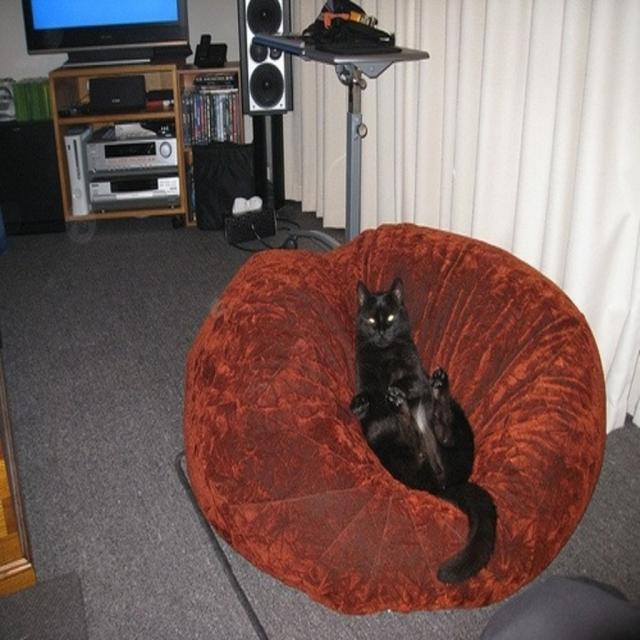Cat: (349, 281, 499, 582)
